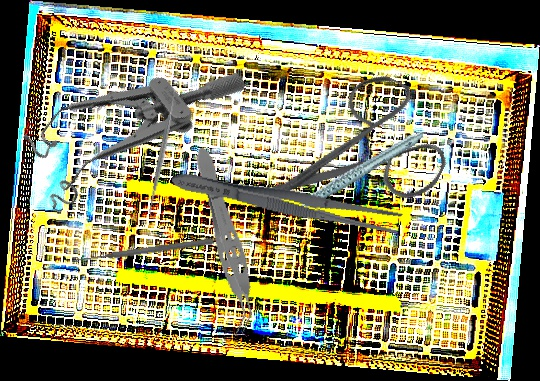Dressing Forceps: (169, 165, 404, 238)
Handpiece: (271, 129, 434, 217)
Iris Scissors: (246, 45, 470, 277)
Pusher: (75, 236, 214, 265)
Spatula Surgical: (141, 85, 184, 221)
Speculum: (6, 8, 248, 227)
Tissue Forceps: (185, 144, 266, 337)
